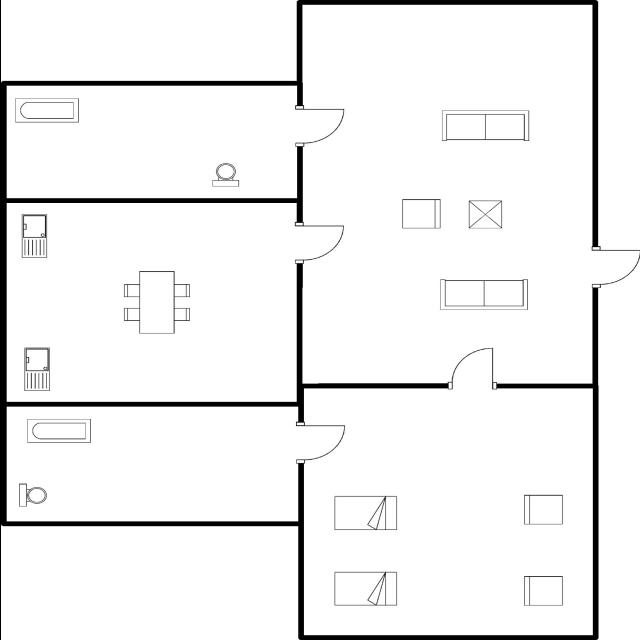bed: (328, 493, 401, 533), (330, 568, 403, 608)
coffee_table: (461, 196, 507, 232)
dining_table: (118, 262, 196, 338)
large_sink: (205, 158, 242, 190), (14, 478, 51, 510)
large_sofa: (432, 275, 532, 315), (434, 106, 533, 144)
sink: (20, 344, 56, 394), (15, 210, 49, 262)
small_sofa: (516, 490, 566, 528), (518, 572, 566, 610), (396, 196, 444, 233)
tub: (22, 414, 94, 446), (8, 94, 82, 125)
